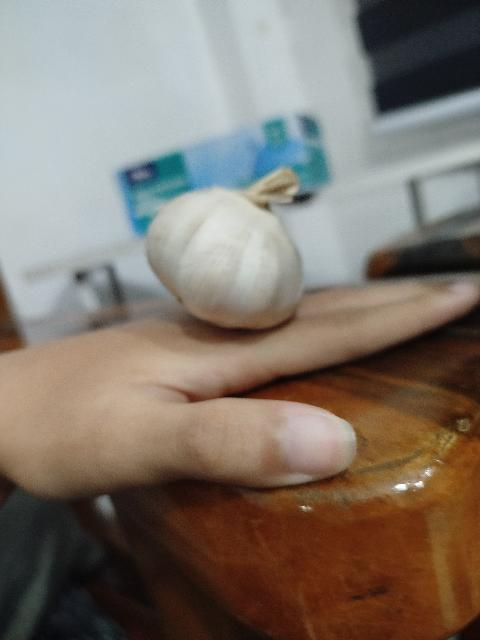garlic: (144, 166, 304, 330)
